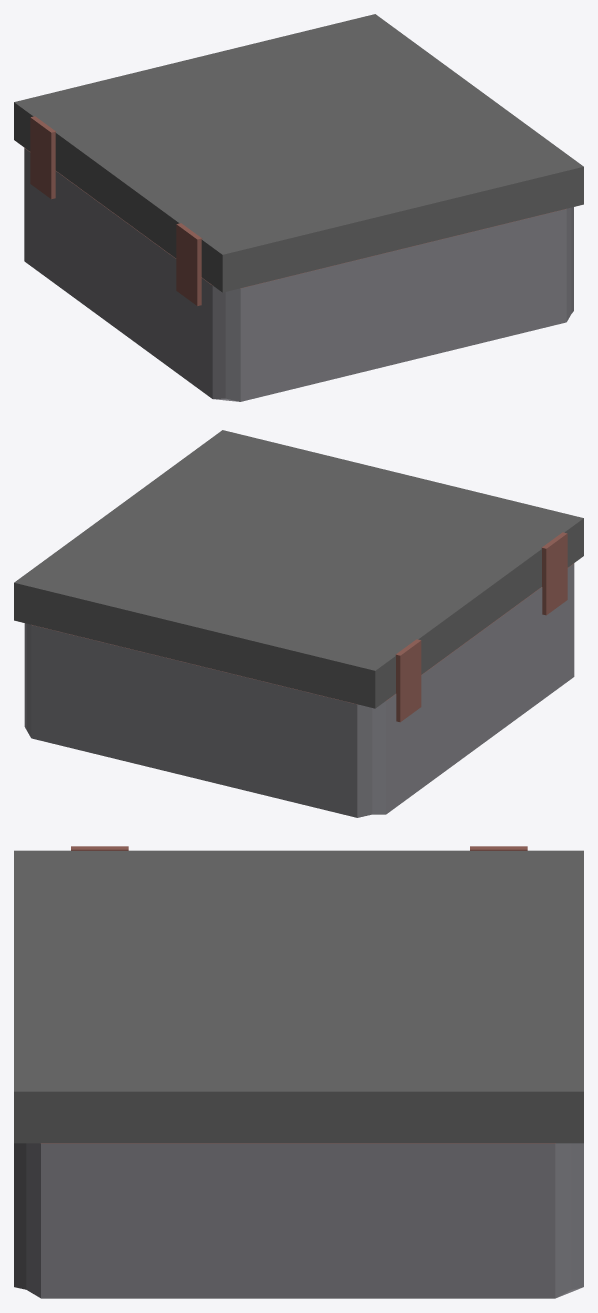
The picture shows the model from 3 angles, top to bottom: view 1: azimuth 30°, elevation 25°; view 2: azimuth 150°, elevation 25°; view 3: azimuth 270°, elevation 25°; orthographic projection. The views are drawn at different scales.
Visible parts, largest first — view 1: Cube.001, Cube; view 2: Cube.001, Cube; view 3: Cube.001, Cube.
Part boxes in pixels (x1,y1,x2,y2): Cube.001: (14, 14, 583, 292); Cube: (24, 116, 573, 401); Cube.001: (14, 430, 583, 708); Cube: (24, 532, 574, 817); Cube.001: (14, 850, 583, 1143); Cube: (14, 846, 583, 1298).
Size of the model in its own units: 202 by 80.67 by 200.
